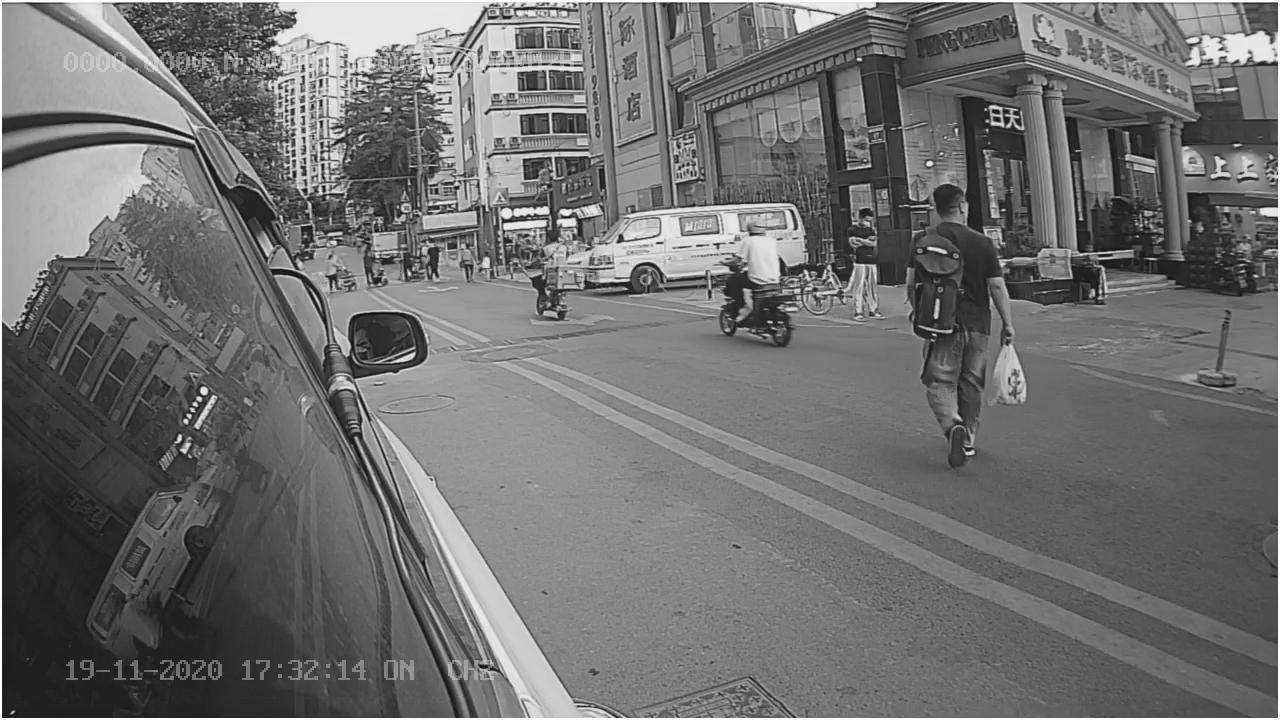person: (905, 187, 1012, 463)
